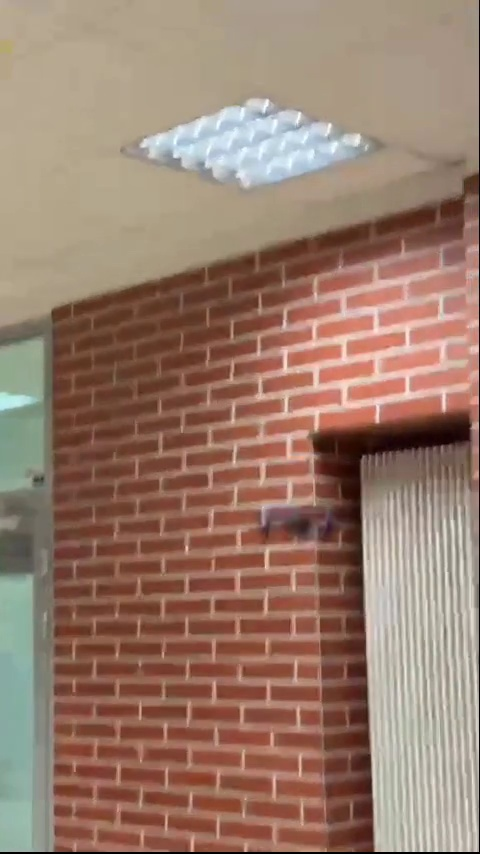drone: (252, 499, 334, 538)
